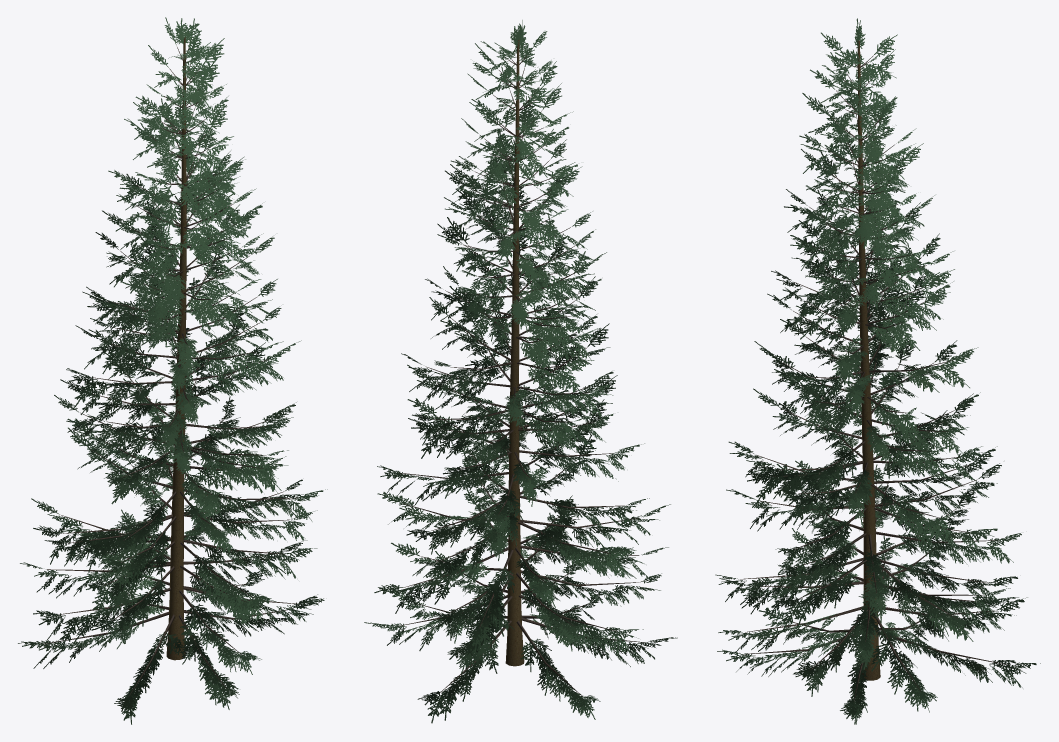
File: spruce.glb
The picture shows the model from 3 angles, left to right: view 1: azimuth 30°, elevation 25°; view 2: azimuth 150°, elevation 25°; view 3: azimuth 270°, elevation 25°; orthographic projection. The views are drawn at different scales.
Parts seen in each view (by area): view 1: spruce; view 2: spruce; view 3: spruce.
Boxes of the visible parts, bbox=[...] form: spruce: bbox=[18, 17, 327, 724]; spruce: bbox=[364, 20, 677, 723]; spruce: bbox=[715, 18, 1040, 724].
Bounding box in the file's own units: 8.28 × 18.78 × 8.38.
3 materials, 2 textured.
